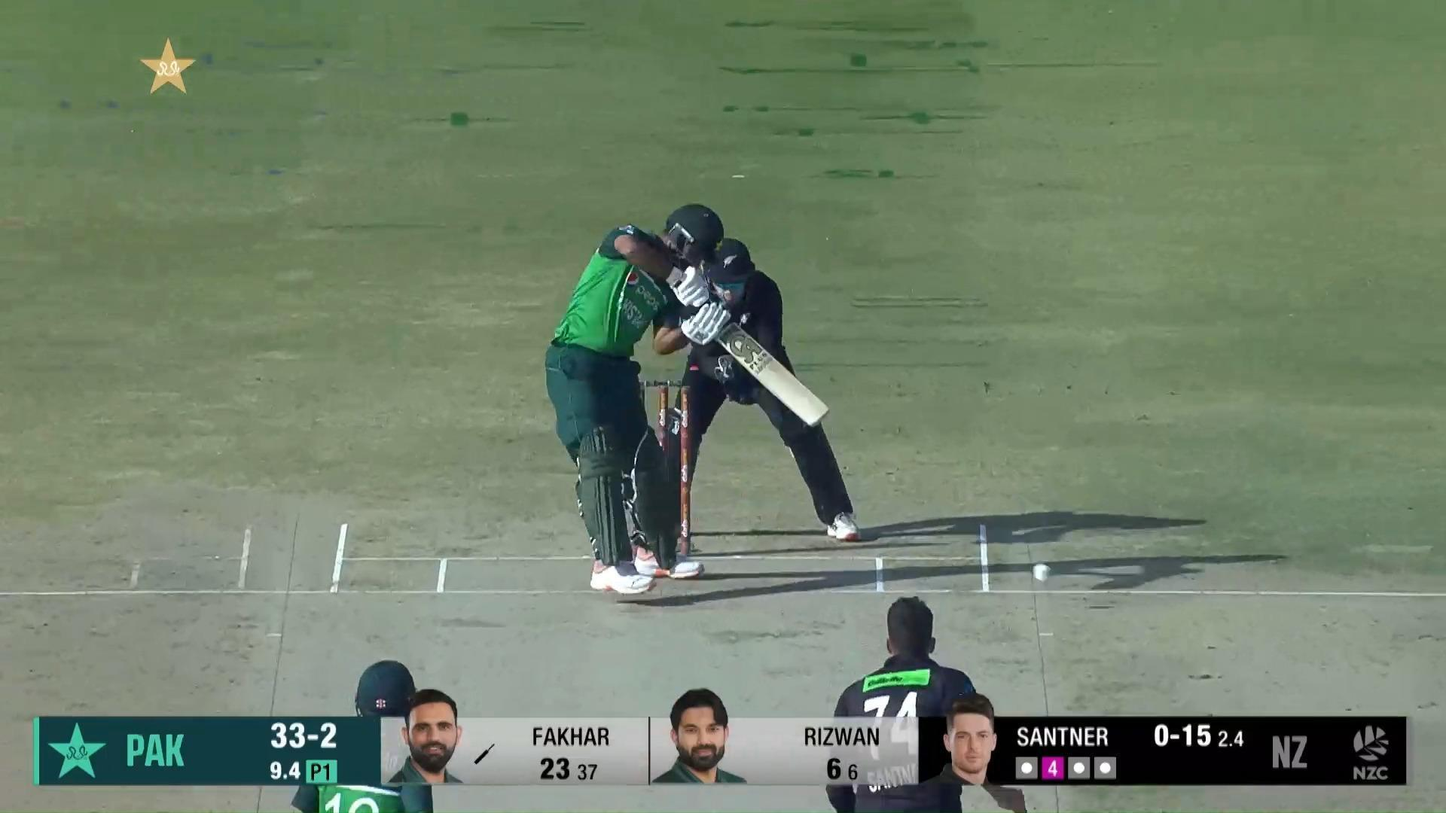BM 1: (545, 203, 831, 594)
BO: (823, 592, 1029, 813)
